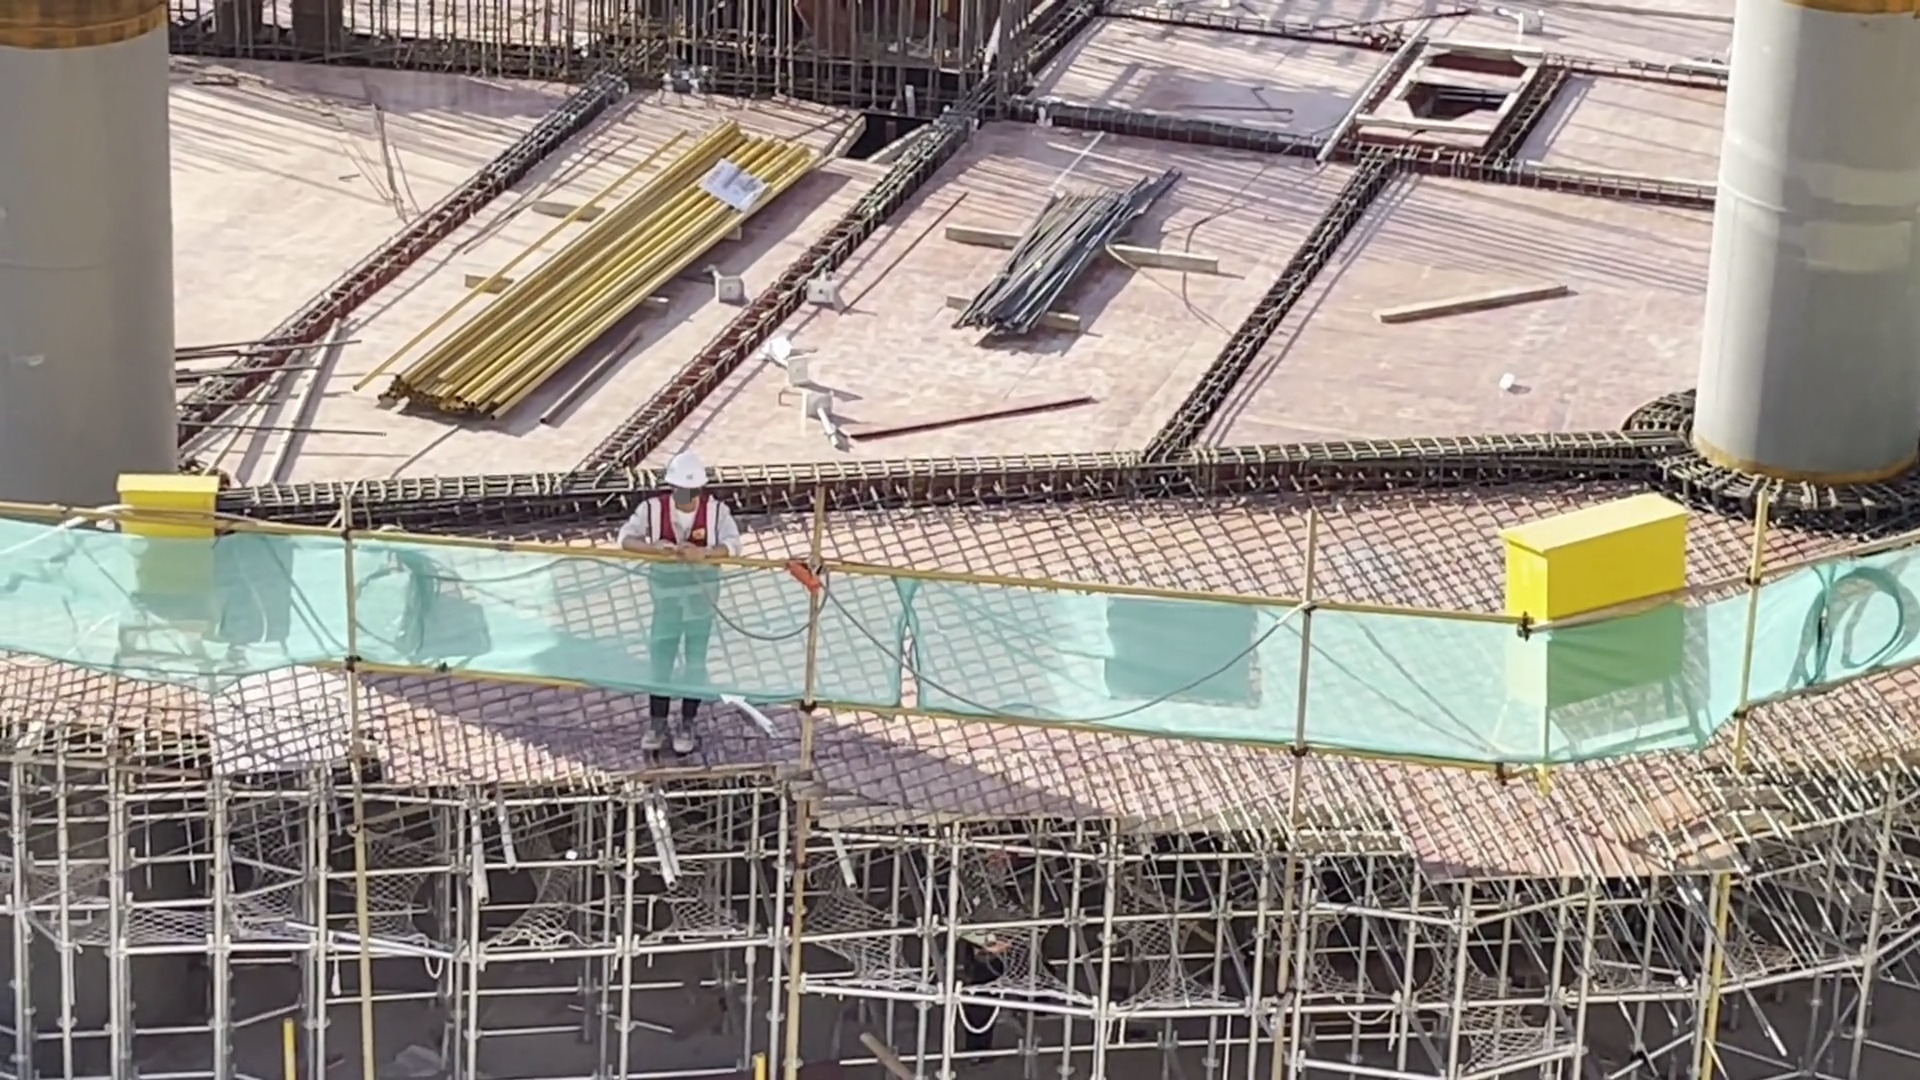ebox: (1506, 509, 1701, 687), (144, 474, 221, 597)
helmet: (981, 842, 1012, 882), (671, 471, 699, 497)
person: (633, 453, 741, 745), (938, 863, 1028, 1080)
rebar: (992, 164, 1132, 340)
vest: (653, 506, 723, 639), (944, 911, 1003, 972)
